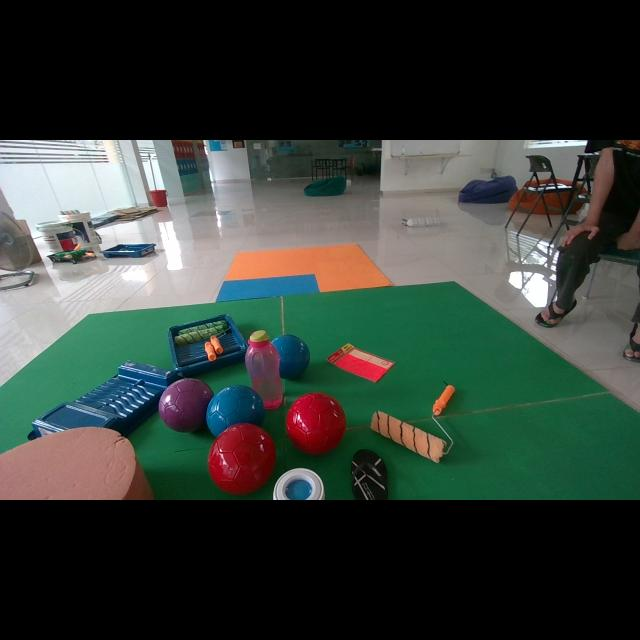B: (206, 385, 265, 436), (271, 336, 309, 379)
P: (159, 379, 214, 432)
R: (208, 422, 276, 495), (286, 392, 346, 454)
